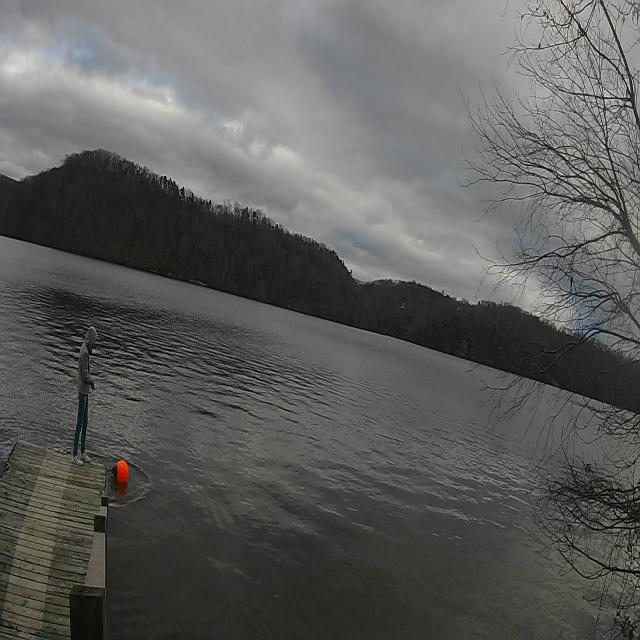Buoy: (111, 452, 132, 487)
